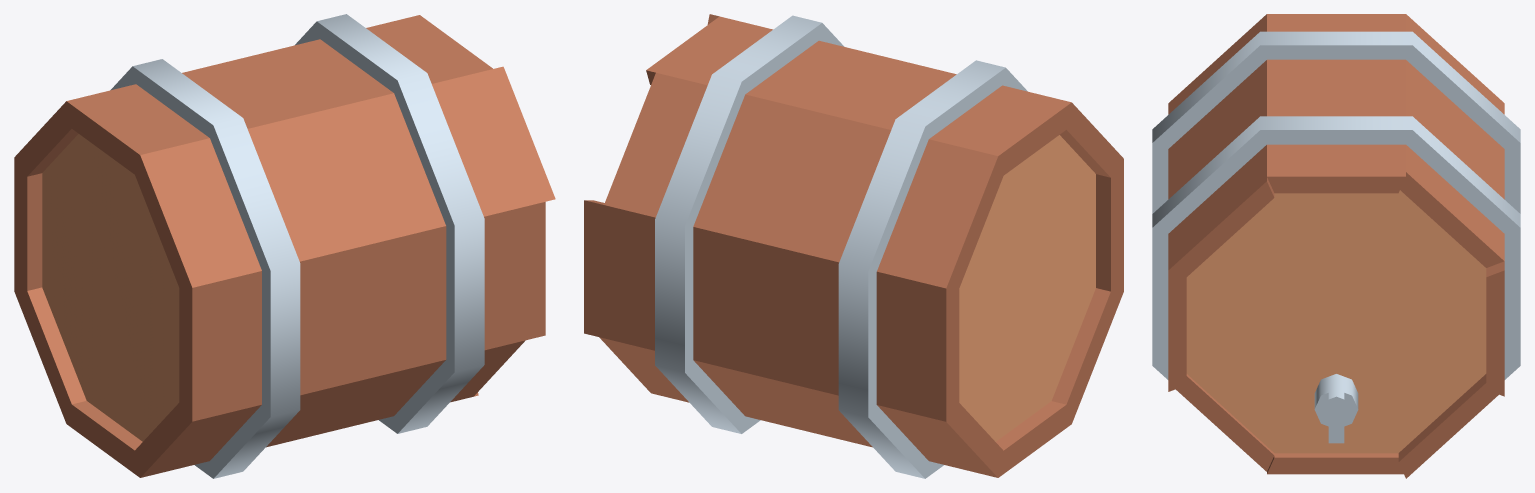
Rendered from barrel.obj.
3 renders of one model, left to right at view 1: azimuth 30°, elevation 25°; view 2: azimuth 150°, elevation 25°; view 3: azimuth 270°, elevation 25°, orthographic. The views are drawn at different scales.
Visible parts, largest first — view 1: barrel; view 2: barrel; view 3: barrel.
Boxes of the visible parts, x1,y1,x2,y2 form: barrel: (14, 14, 555, 478); barrel: (584, 14, 1123, 478); barrel: (1152, 14, 1520, 478).
Bounding box in the file's own units: 0.76 × 0.6789 × 0.6789.
